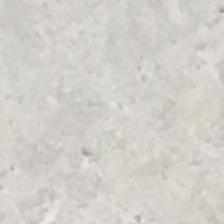Non_Crack: (0, 14, 224, 193)
